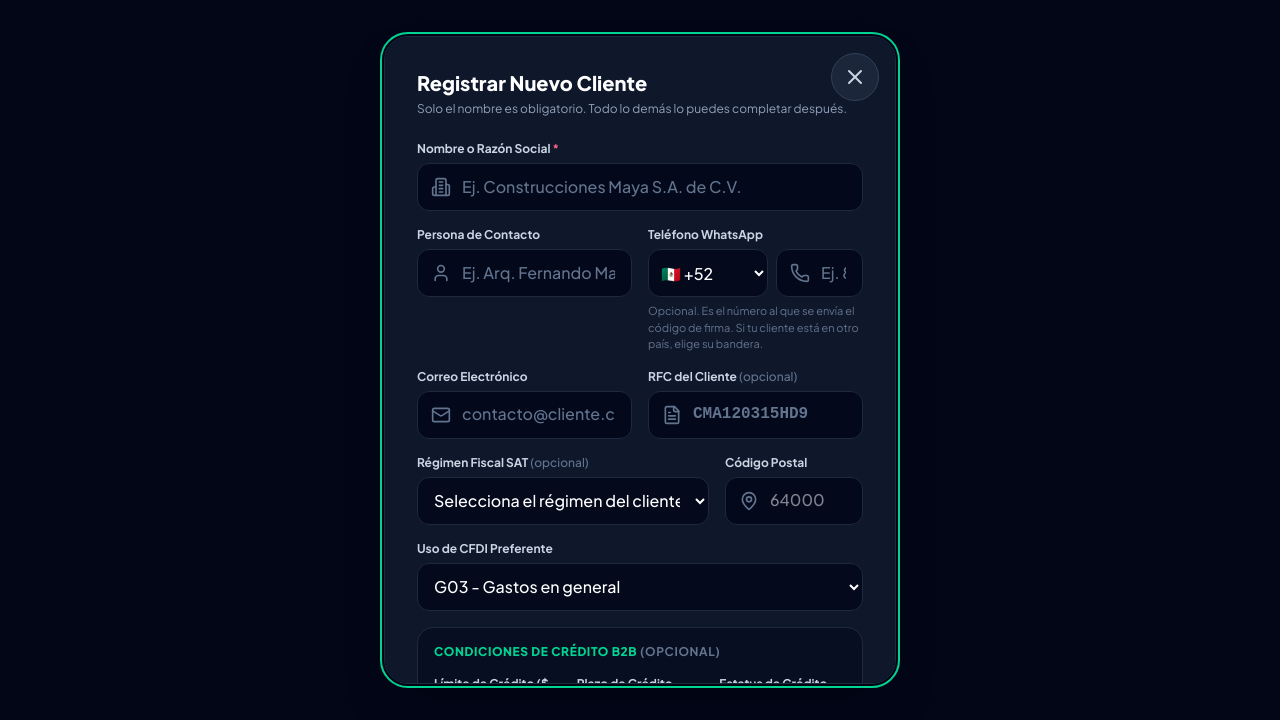
Test: server-reported failures land on their own inputs › keeps a failure with no field to blame in the banner alone
This screenshot has width=1280, height=720.
Type "Cliente Nuevo" into the field labelled "Nombre o Razón Social *" at (640, 187), box x1=417 y1=163 x2=863 y2=211
(page scrolled)
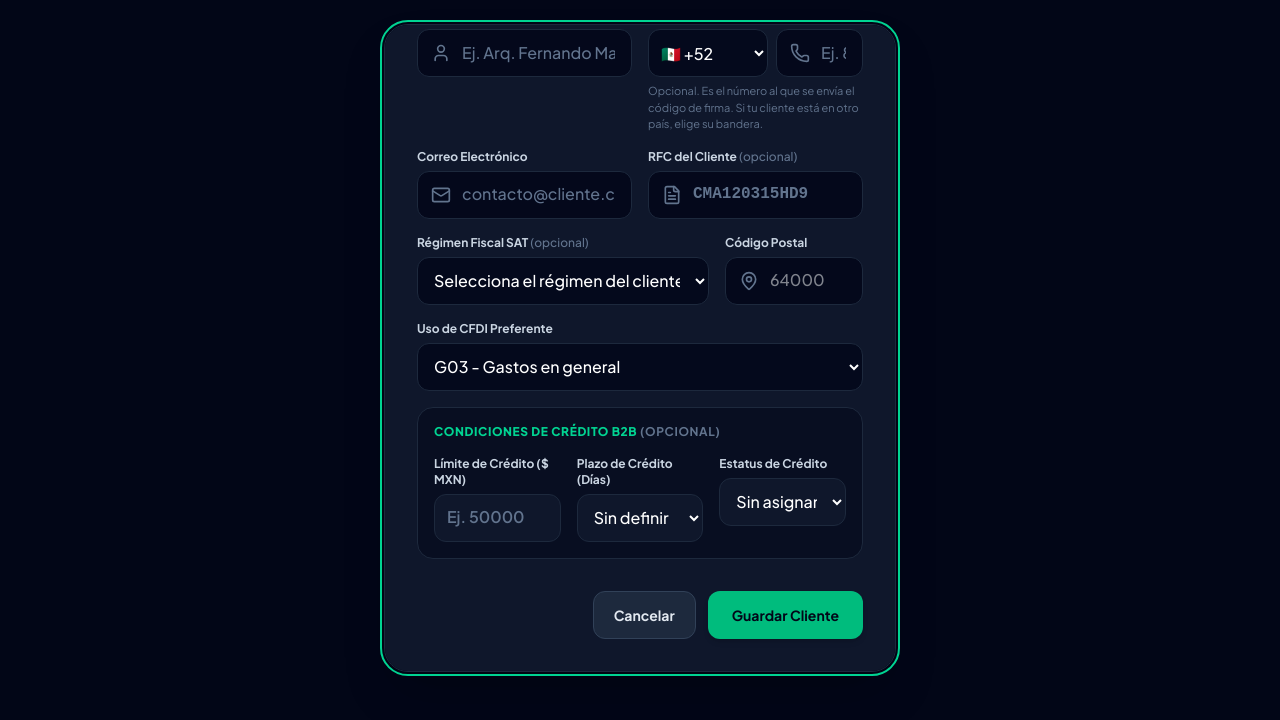
Click the button "Guardar Cliente" at (785, 614), box x1=708 y1=590 x2=863 y2=638
(page scrolled)
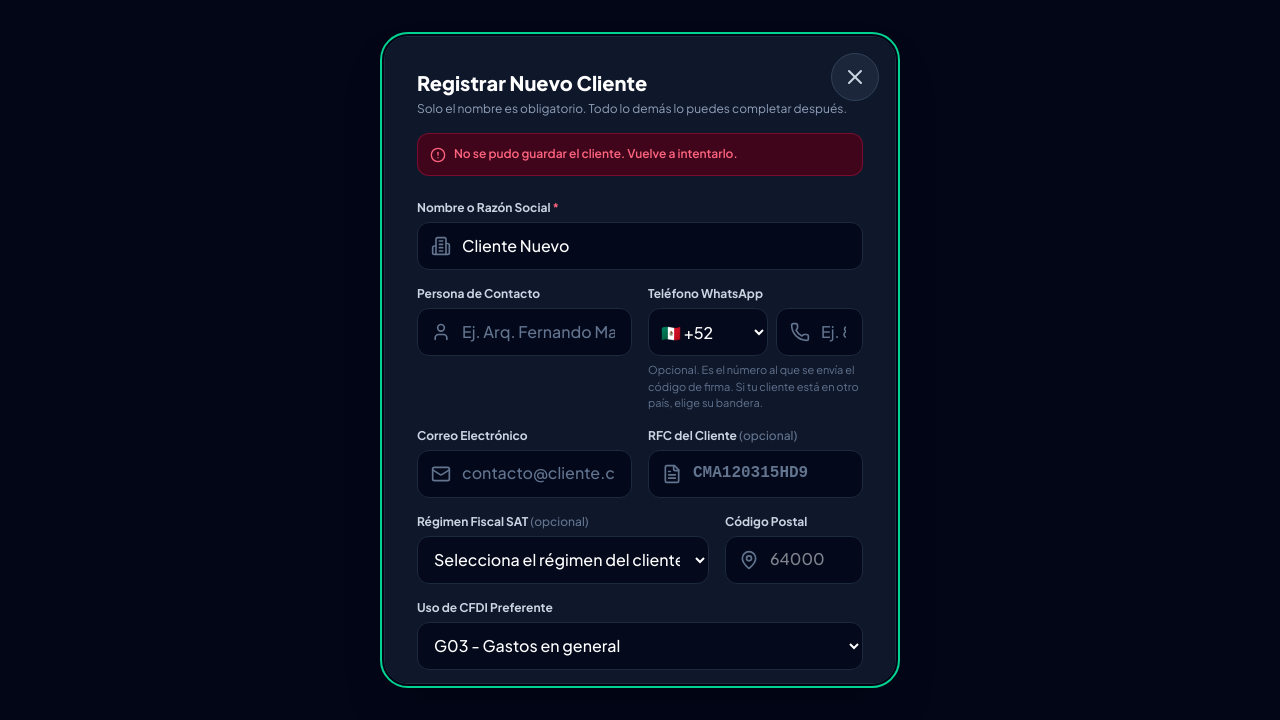
Expected: the message shows "No se pudo guardar el cliente", x1=454 y1=146 x2=738 y2=161
